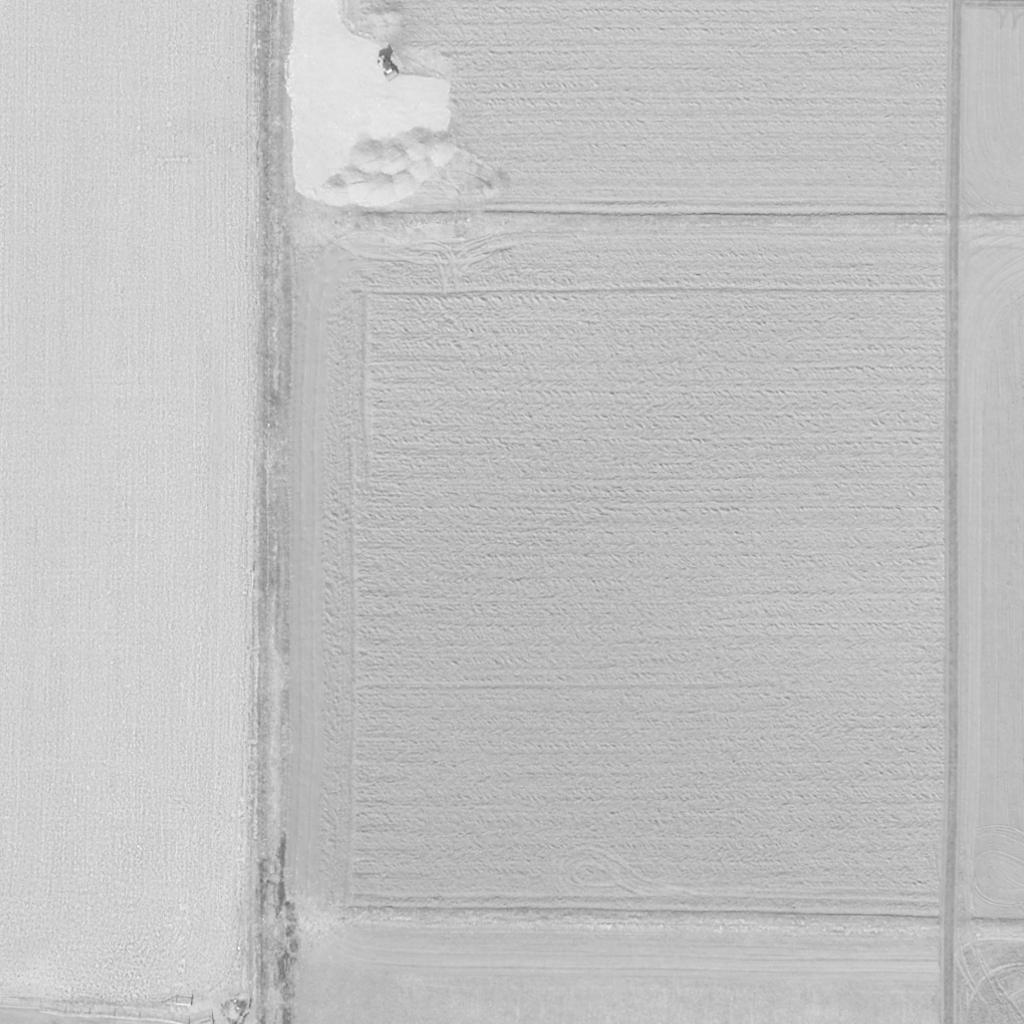vehicle: (374, 52, 400, 82)
